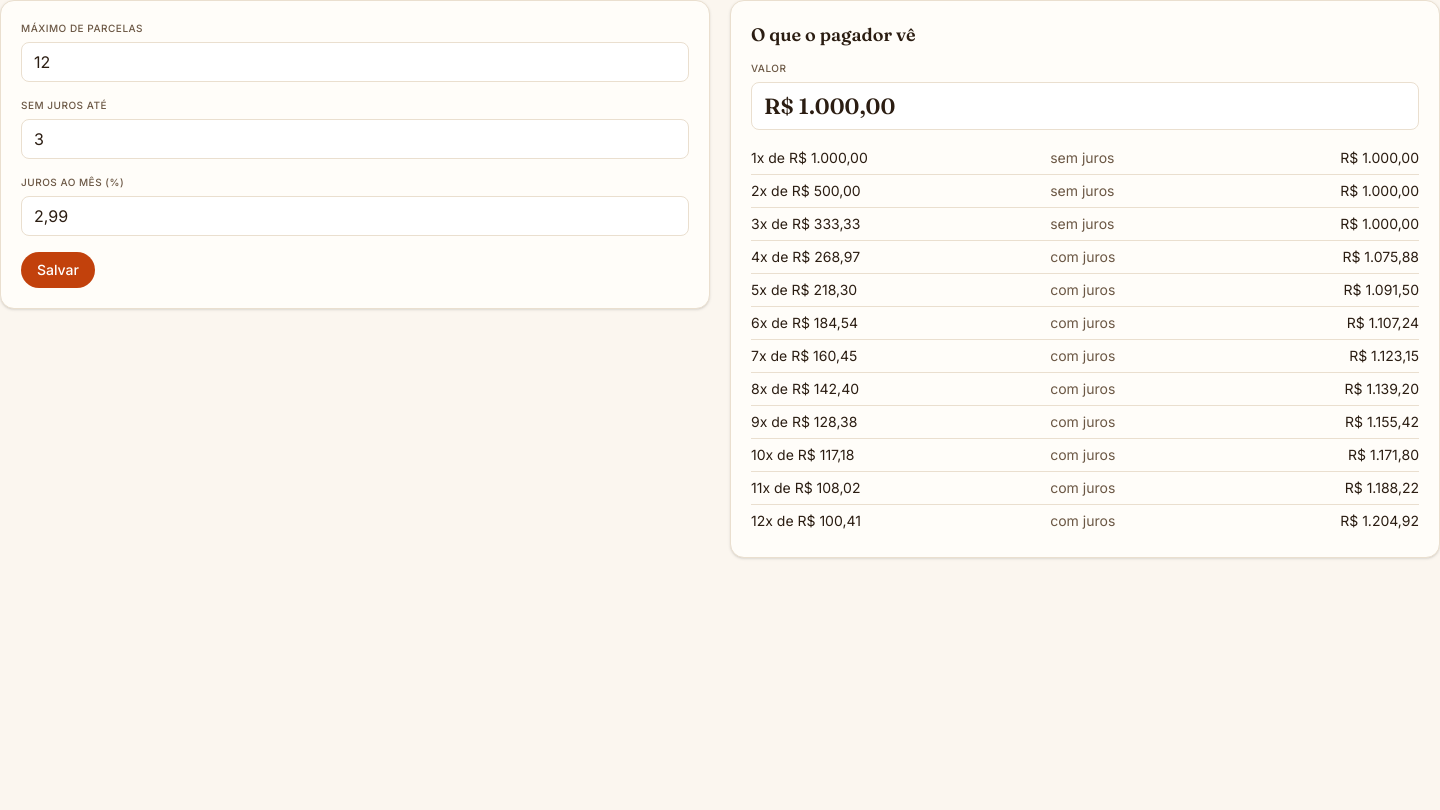
Test: InstallmentSettingsForm › freeUpToAboveMaxIsRefusedLocally
Replace the text in the number field labelled "Sem juros até" with "13" at x=355, y=139, box [21,119,689,159]
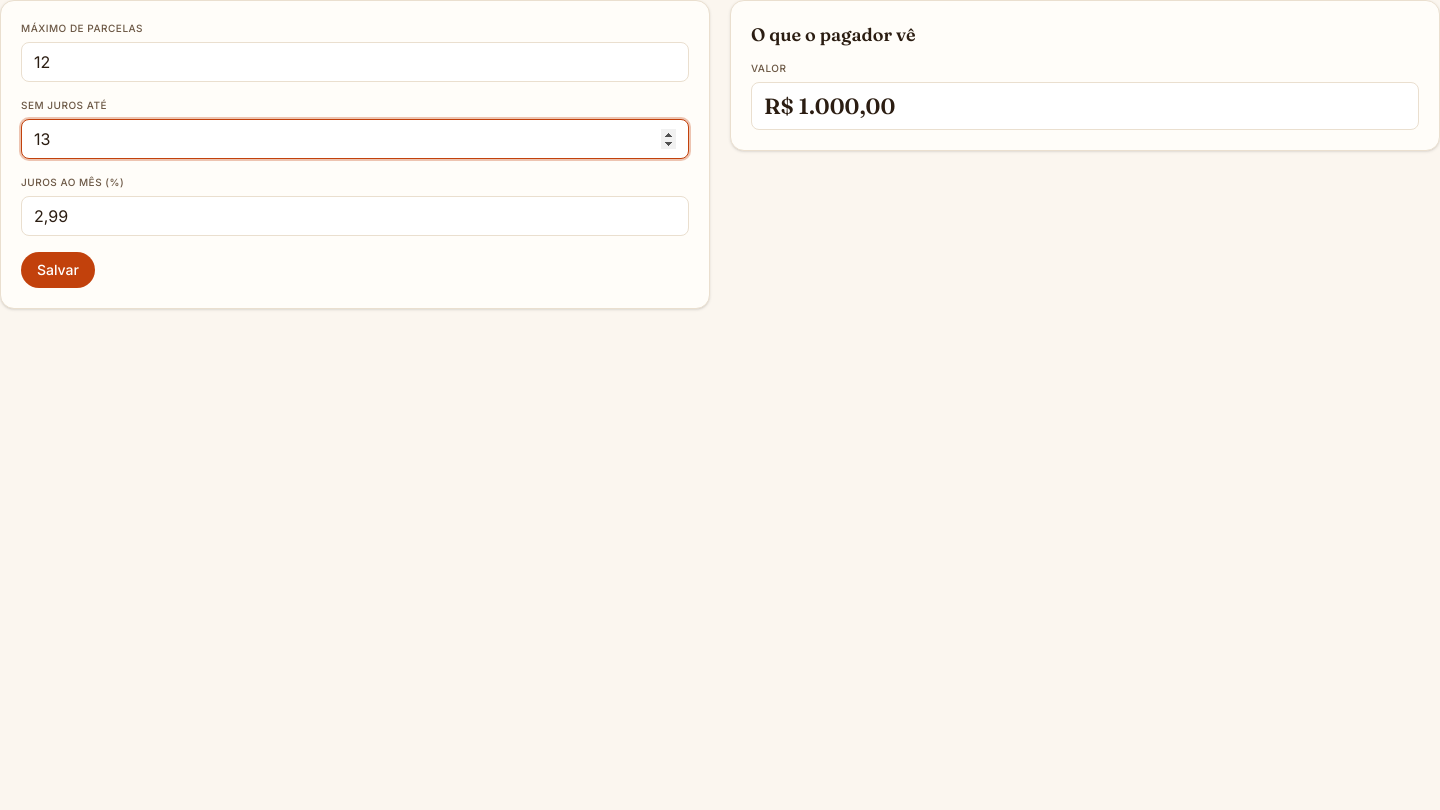
Click the button "Salvar".
click(58, 270)  # box [21,252,95,288]
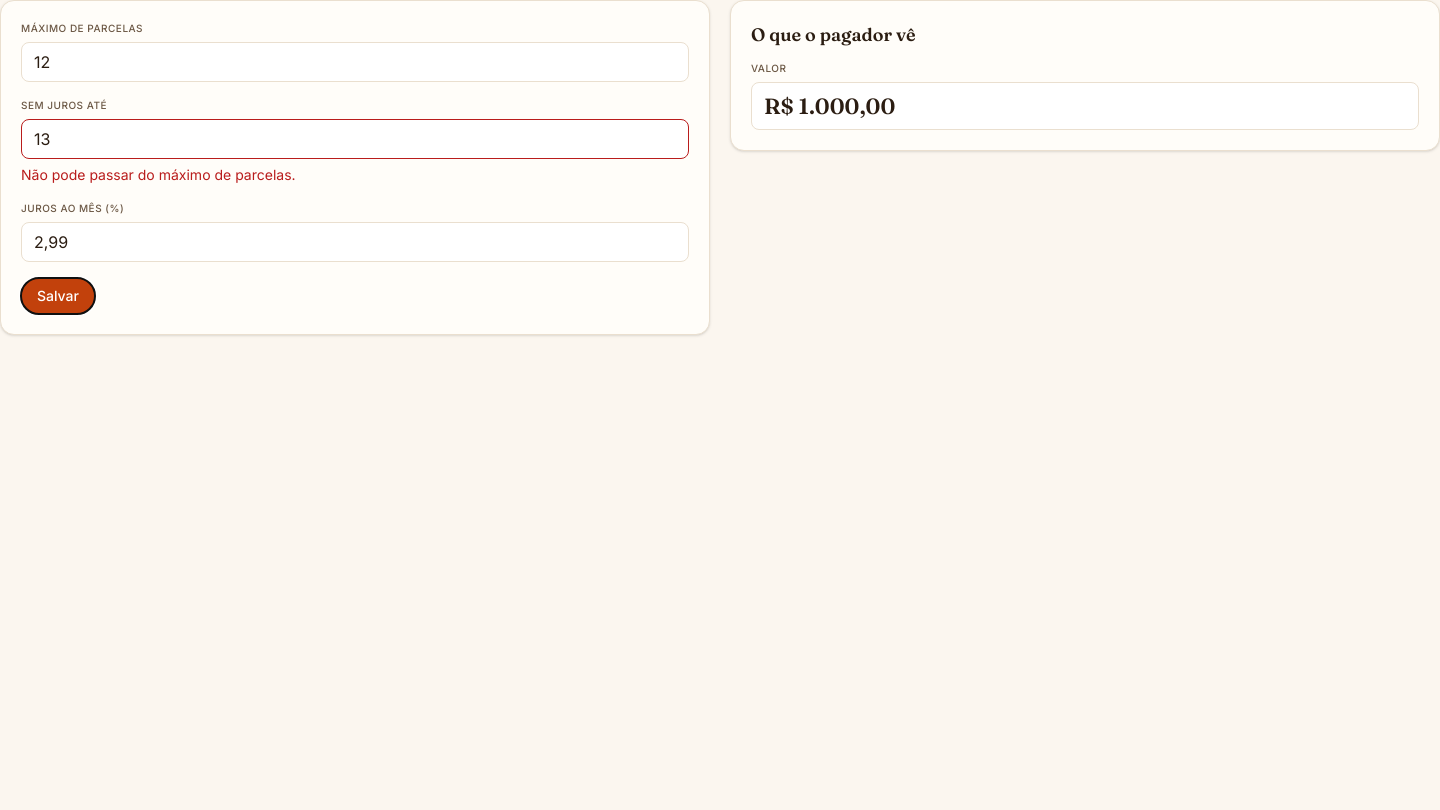
Now the text "Não pode passar do máximo de parcelas." is shown, box [21,166,296,183]
